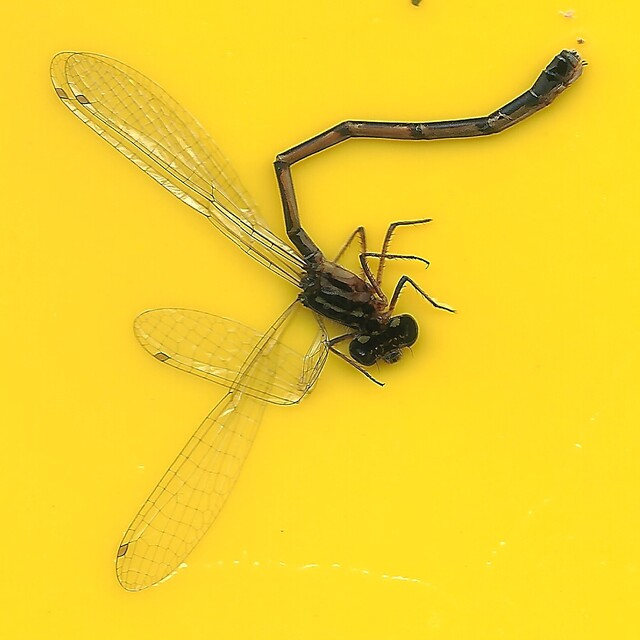Odonata: (50, 49, 590, 591)
